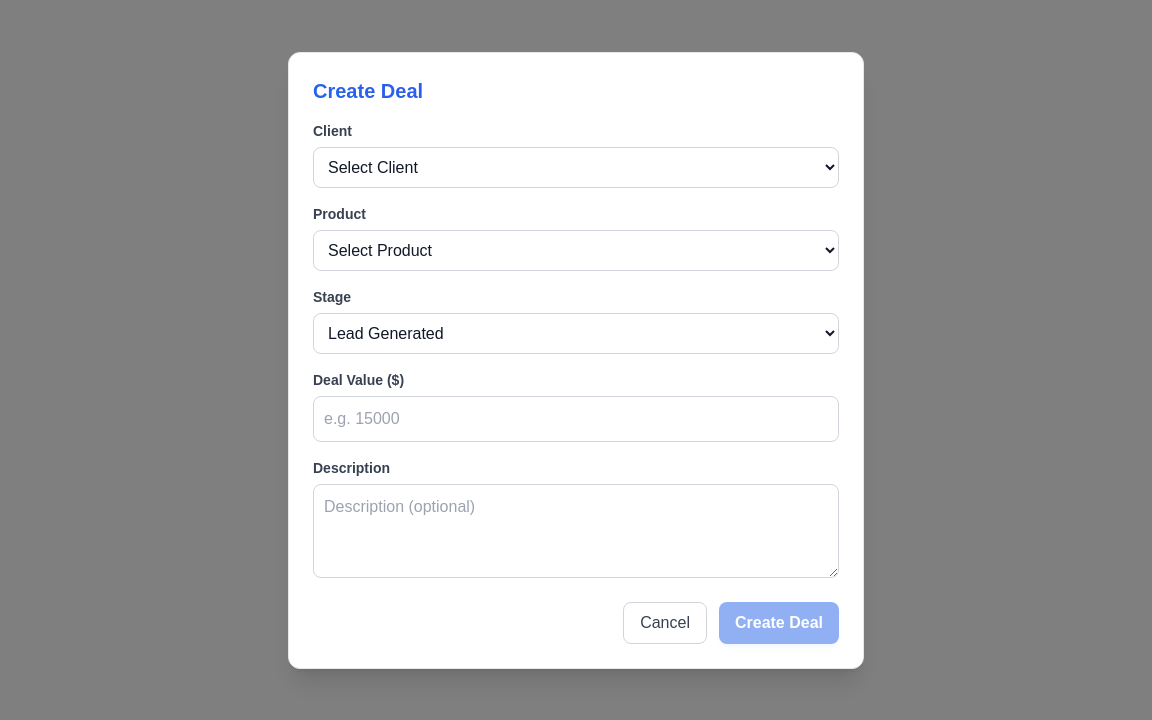
Test: CreateDealModal › enables the submit button when required fields are filled
Step 1. Select "Client A" in the dropdown labelled "Client" → (576, 167), box x1=313 y1=146 x2=839 y2=188
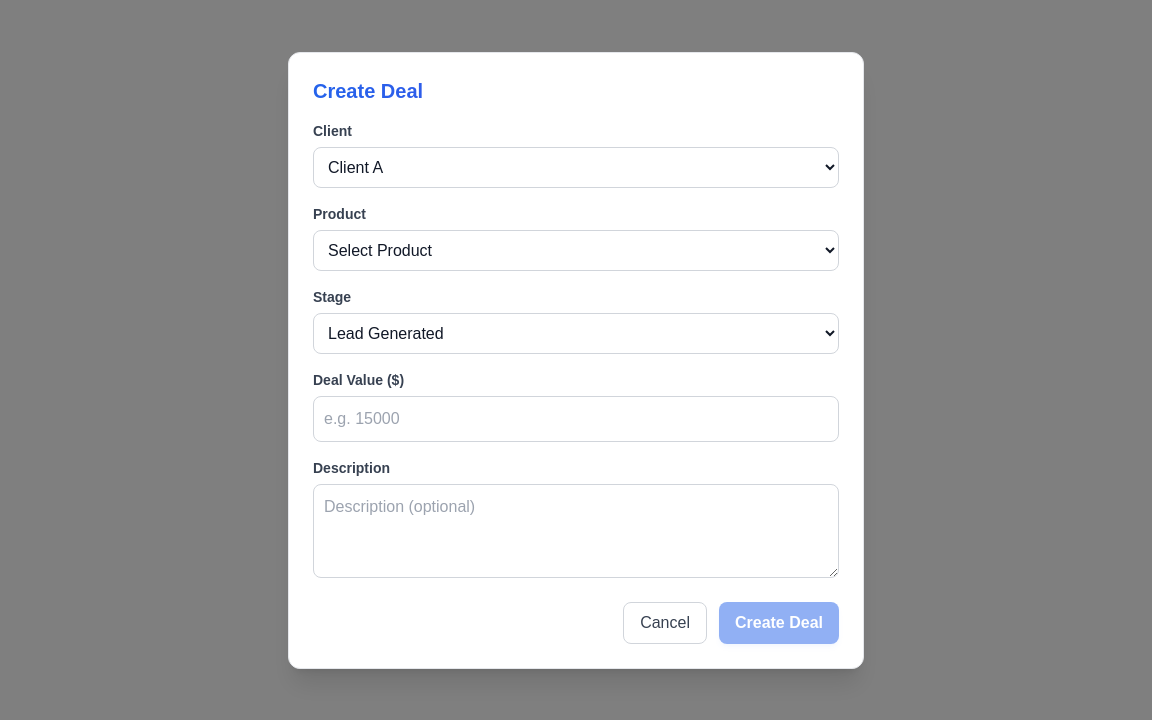
Step 2. Select "Product A" in the dropdown labelled "Product" → (576, 250), box x1=313 y1=230 x2=839 y2=270
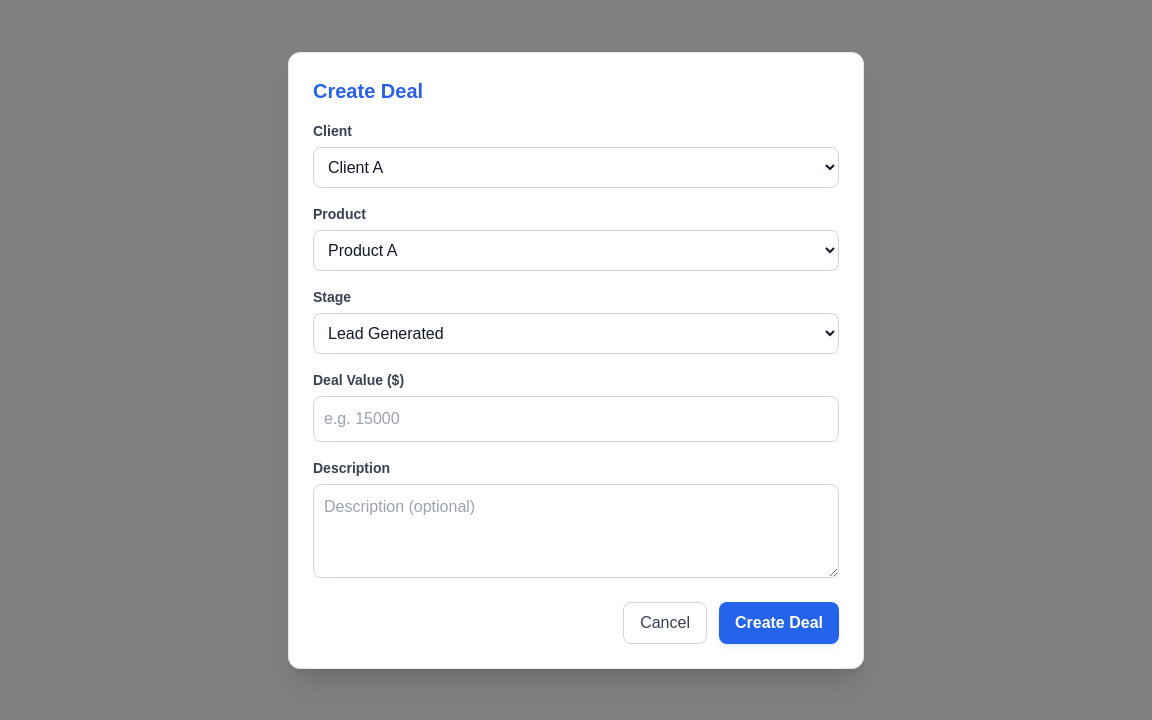
Expected: the button "Create Deal" is enabled, x1=719 y1=602 x2=839 y2=644
